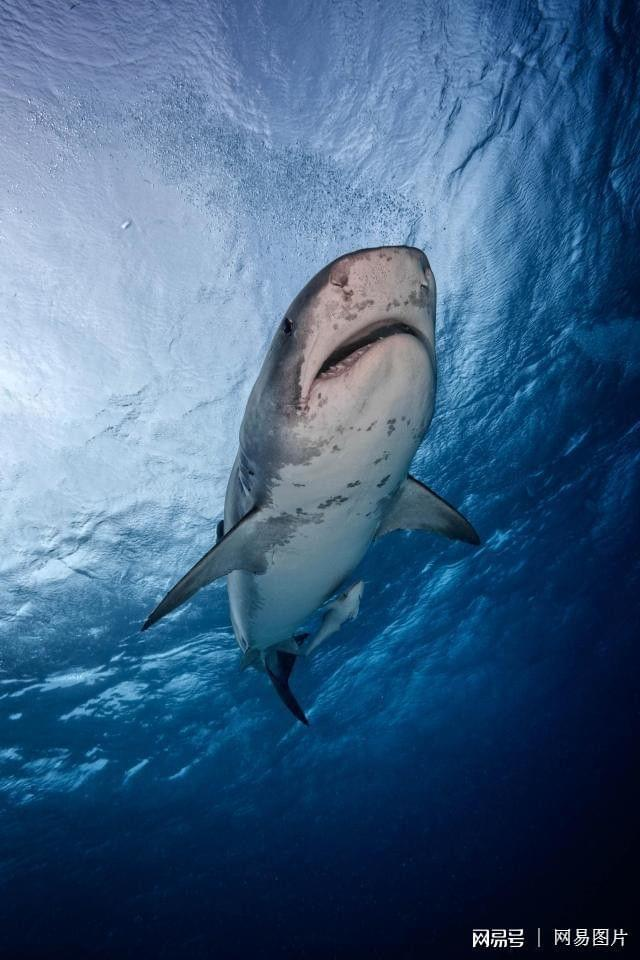shark: (134, 227, 493, 739)
